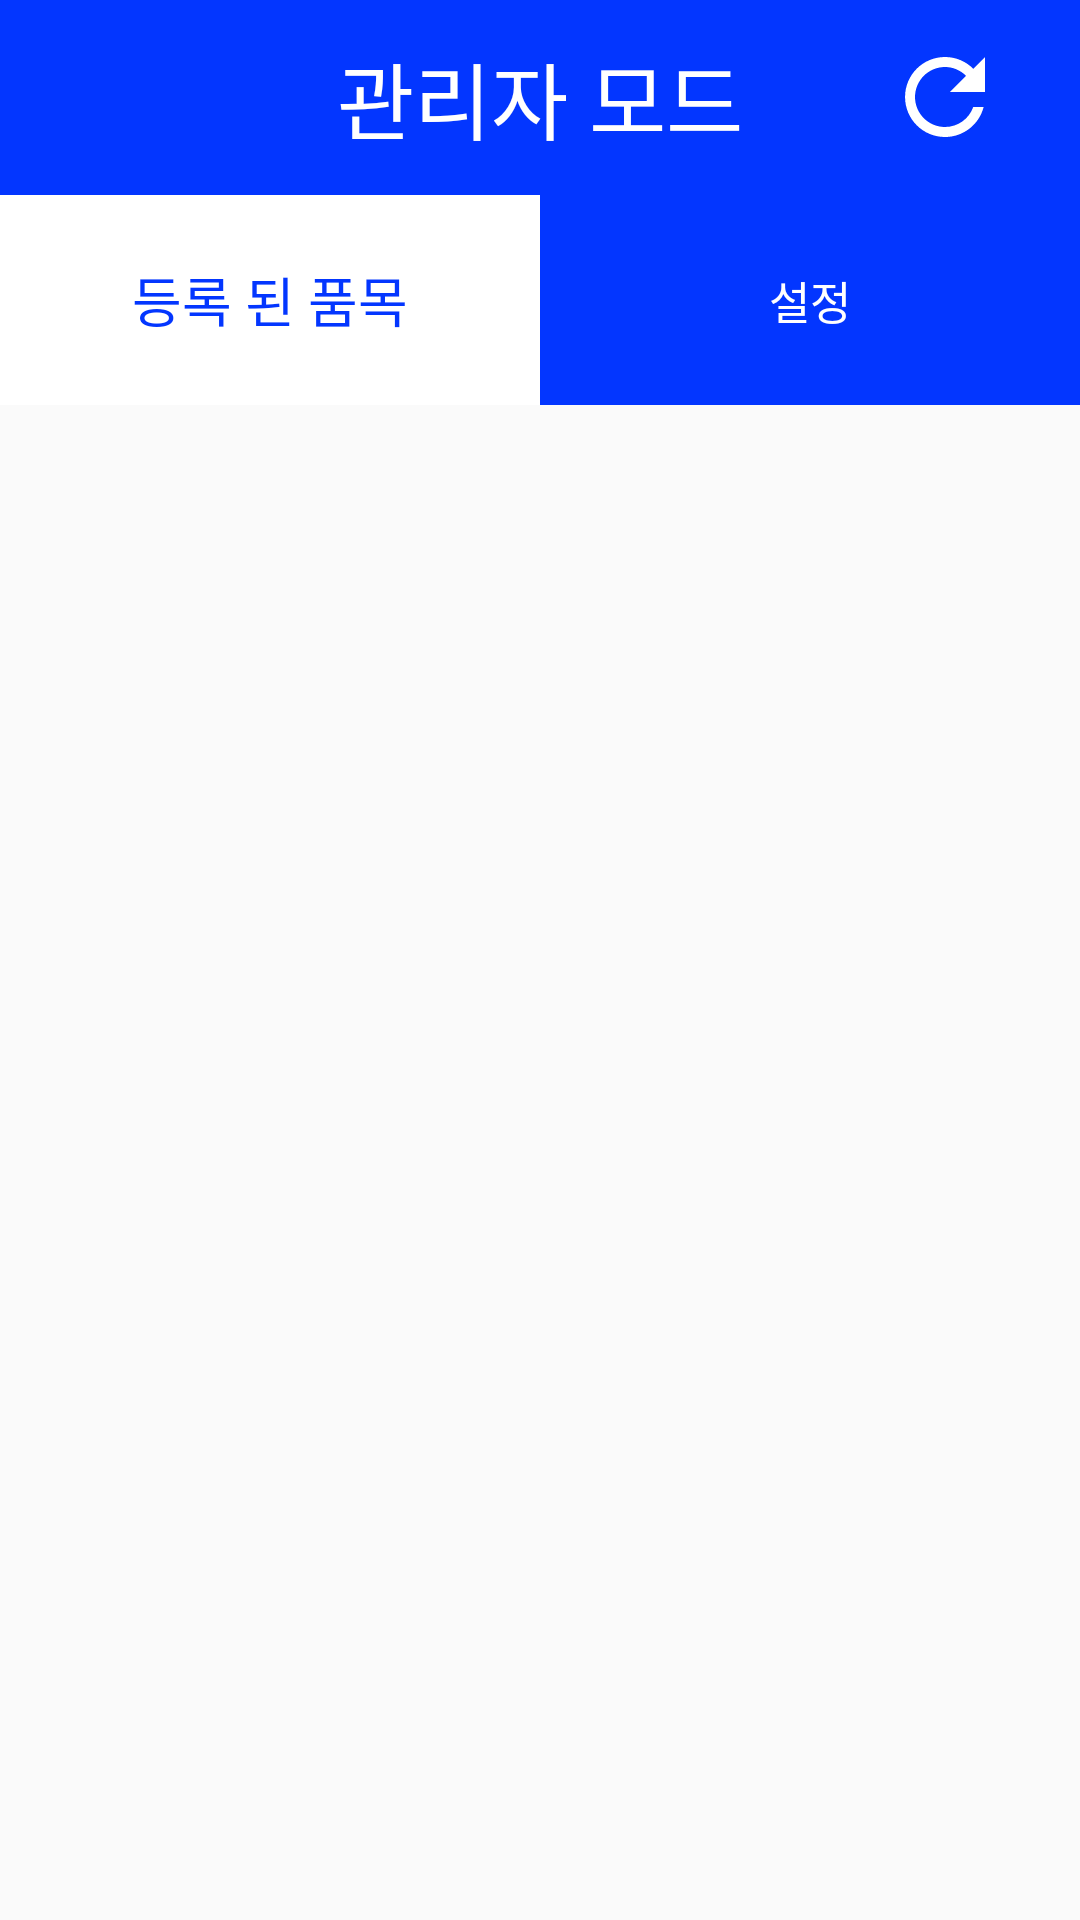

Icon click points for this 1080w x 1920h phone screenshot, format point (x, y):
refresh: point (945, 97)
